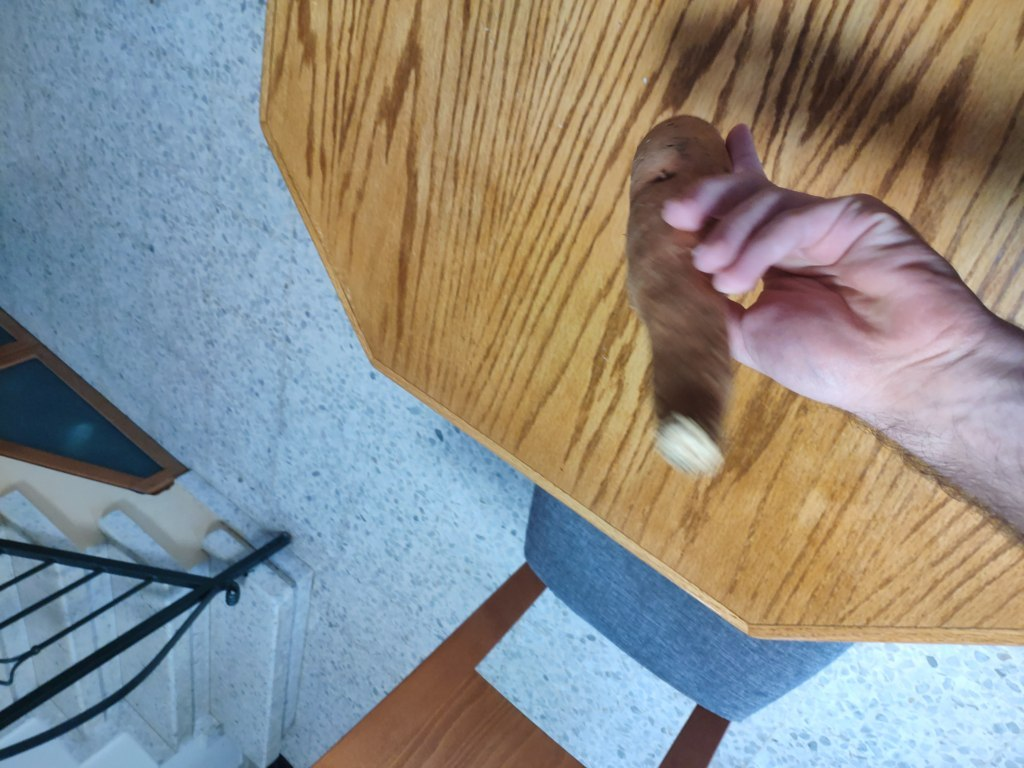Sweet Potato: (622, 128, 762, 477)
